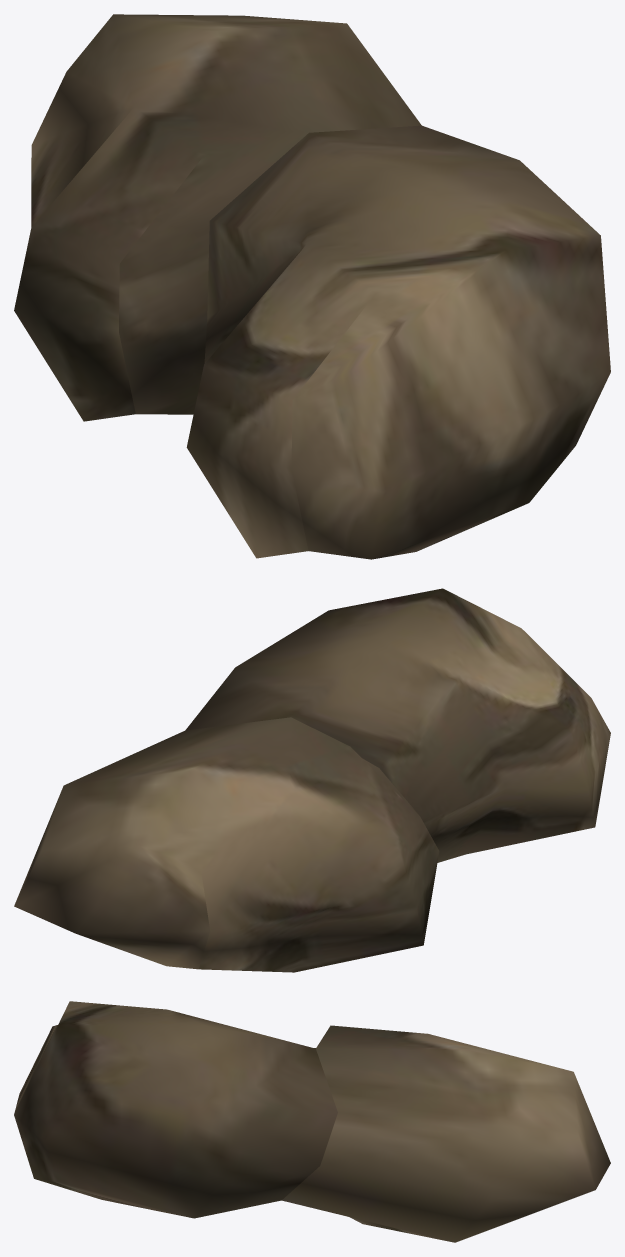
Rendered from Stone02.fbx.
3 renders of one model, top to bottom at view 1: azimuth 30°, elevation 25°; view 2: azimuth 150°, elevation 25°; view 3: azimuth 270°, elevation 25°, orthographic. The views are drawn at different scales.
Visible parts, largest first — view 1: polySurface188; view 2: polySurface188; view 3: polySurface188.
Part boxes in pixels (<box>): polySurface188: <box>14,14,610,559</box>; polySurface188: <box>14,588,610,972</box>; polySurface188: <box>14,1001,610,1242</box>.
Bounding box in the file's own units: 3.15 × 1.98 × 5.34.
